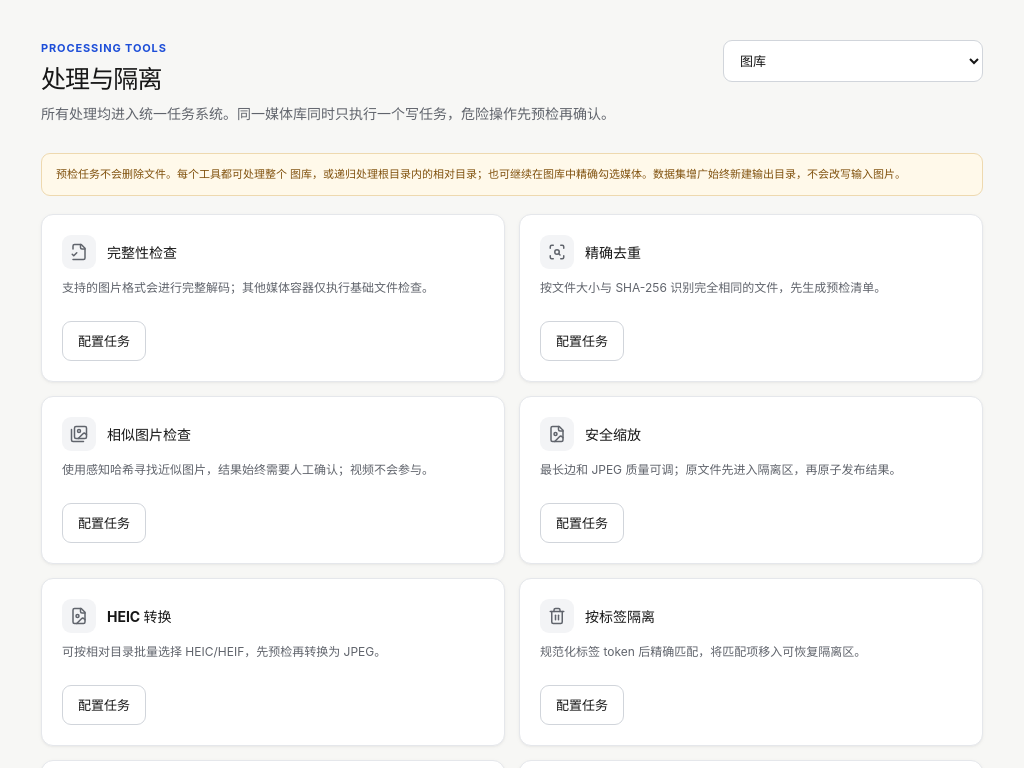
Test: ToolsView media selection boundary › opens directory configuration for HEIC conversion
The width and height of the screenshot is (1024, 768).
Click the button "配置任务" below "可按相对目录批量选择 HEIC/HEIF，先预检再转换为 JPEG。" at (104, 705), box x1=62 y1=685 x2=146 y2=725
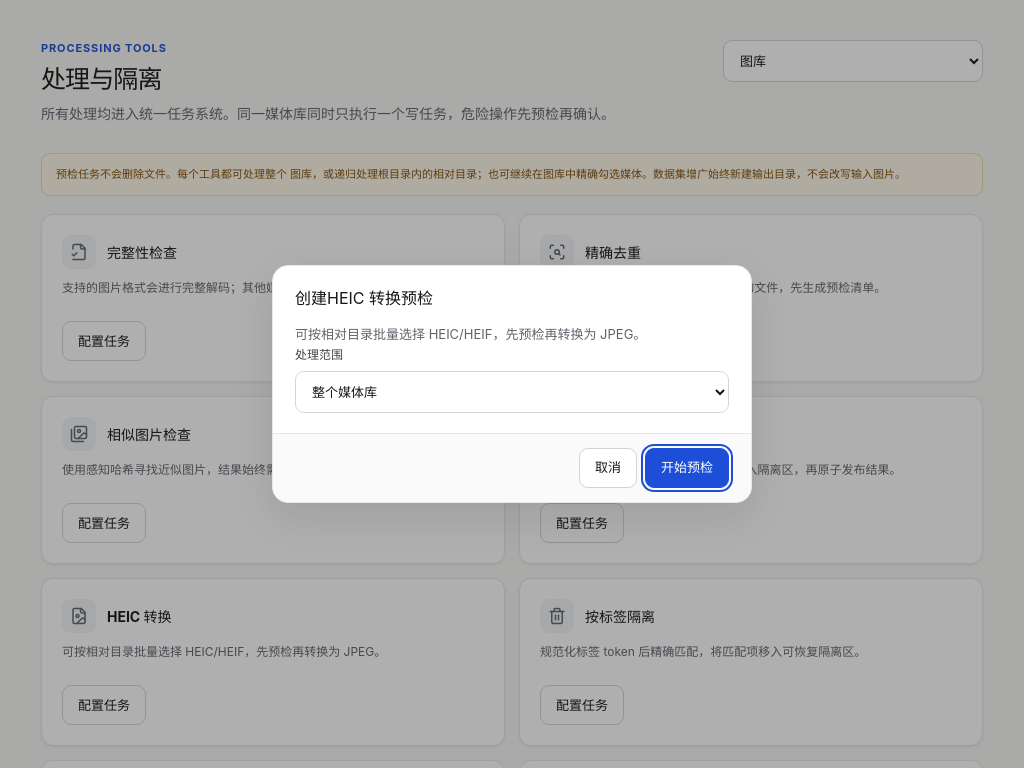
Expected: the dialog is shown, x1=272 y1=265 x2=752 y2=503
